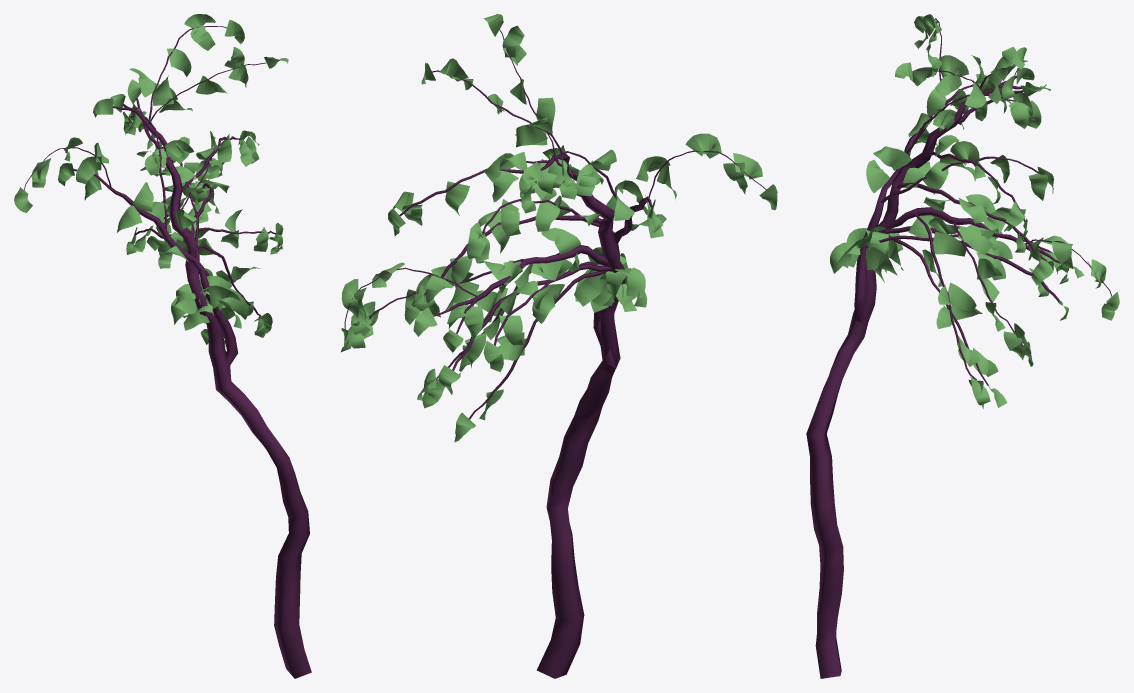
Rendered from 01_treeF_02.fbx.
3 views of the same model, side by side, from view 1: azimuth 30°, elevation 25°; view 2: azimuth 150°, elevation 25°; view 3: azimuth 270°, elevation 25° (orthographic). The views are drawn at different scales.
Parts seen in each view (by area): view 1: _treeCopaF_02, _treeTroncoF_02; view 2: _treeCopaF_02, _treeTroncoF_02; view 3: _treeCopaF_02, _treeTroncoF_02.
Part boxes in pixels (x1=…): _treeCopaF_02: x1=14, y1=14, x2=288, y2=347; _treeTroncoF_02: x1=24, y1=26, x2=311, y2=678; _treeCopaF_02: x1=340, y1=14, x2=777, y2=442; _treeTroncoF_02: x1=344, y1=29, x2=766, y2=678; _treeCopaF_02: x1=830, y1=14, x2=1119, y2=408; _treeTroncoF_02: x1=806, y1=18, x2=1111, y2=678.
Size of the model in its own units: 529 by 947 by 429.
